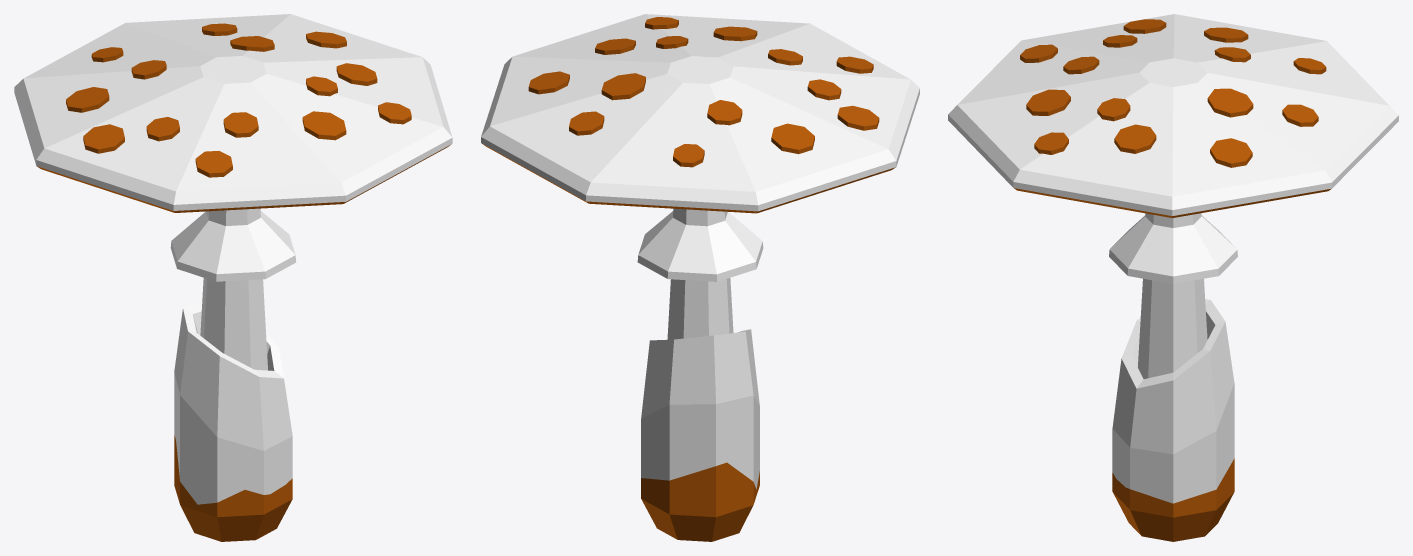
File: Mushroom 09.fbx
The picture shows the model from 3 angles, left to right: view 1: azimuth 30°, elevation 25°; view 2: azimuth 150°, elevation 25°; view 3: azimuth 270°, elevation 25°; orthographic projection.
Visible parts, largest first — view 1: Mushroom 09; view 2: Mushroom 09; view 3: Mushroom 09.
Boxes of the visible parts, x1,y1,x2,y2 form: Mushroom 09: [14, 14, 452, 541]; Mushroom 09: [481, 14, 919, 541]; Mushroom 09: [948, 14, 1398, 541].
Size of the model in its own units: 33.18 by 36.59 by 33.18.
